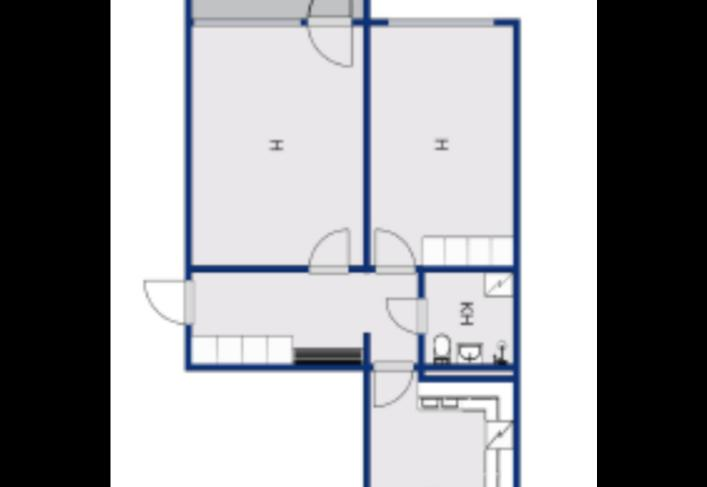door: (140, 276, 198, 332), (300, 17, 356, 74), (371, 222, 420, 282), (306, 221, 355, 277), (371, 356, 415, 412), (384, 294, 430, 338), (302, 0, 356, 27)
window: (378, 13, 500, 32), (188, 13, 305, 31)
